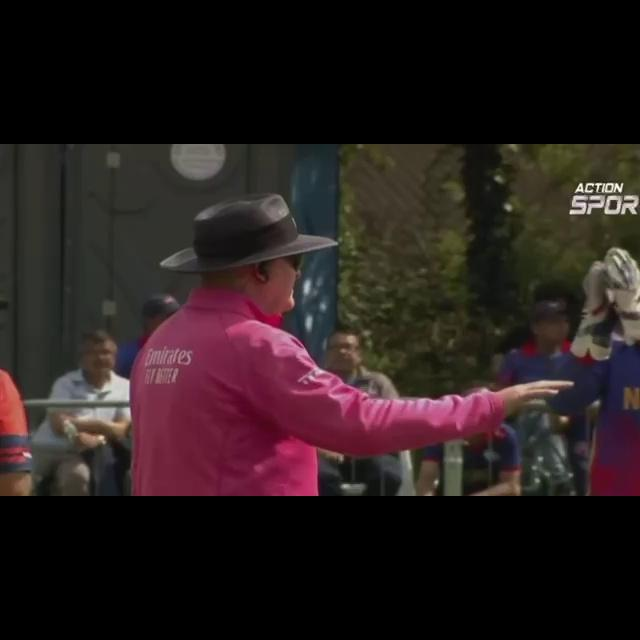umpire: (137, 177, 579, 496)
